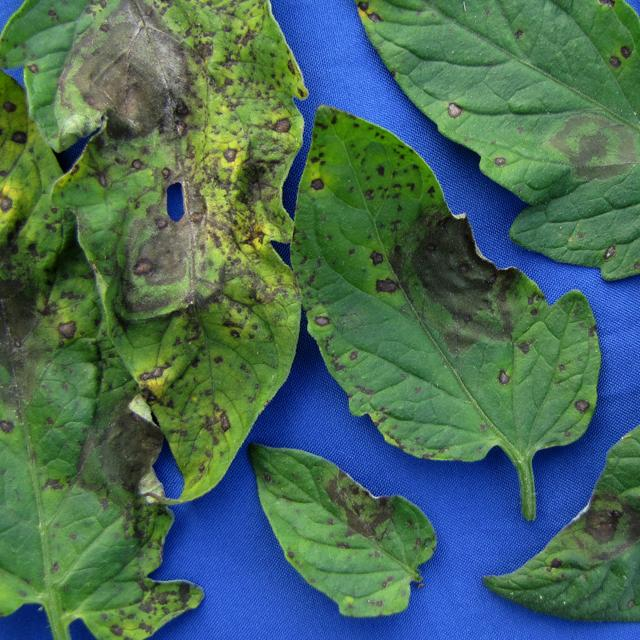Tomato leaf late blight: (0, 0, 315, 509), (0, 20, 232, 640), (283, 79, 614, 506), (321, 0, 640, 264), (472, 184, 640, 640), (631, 0, 640, 164)
